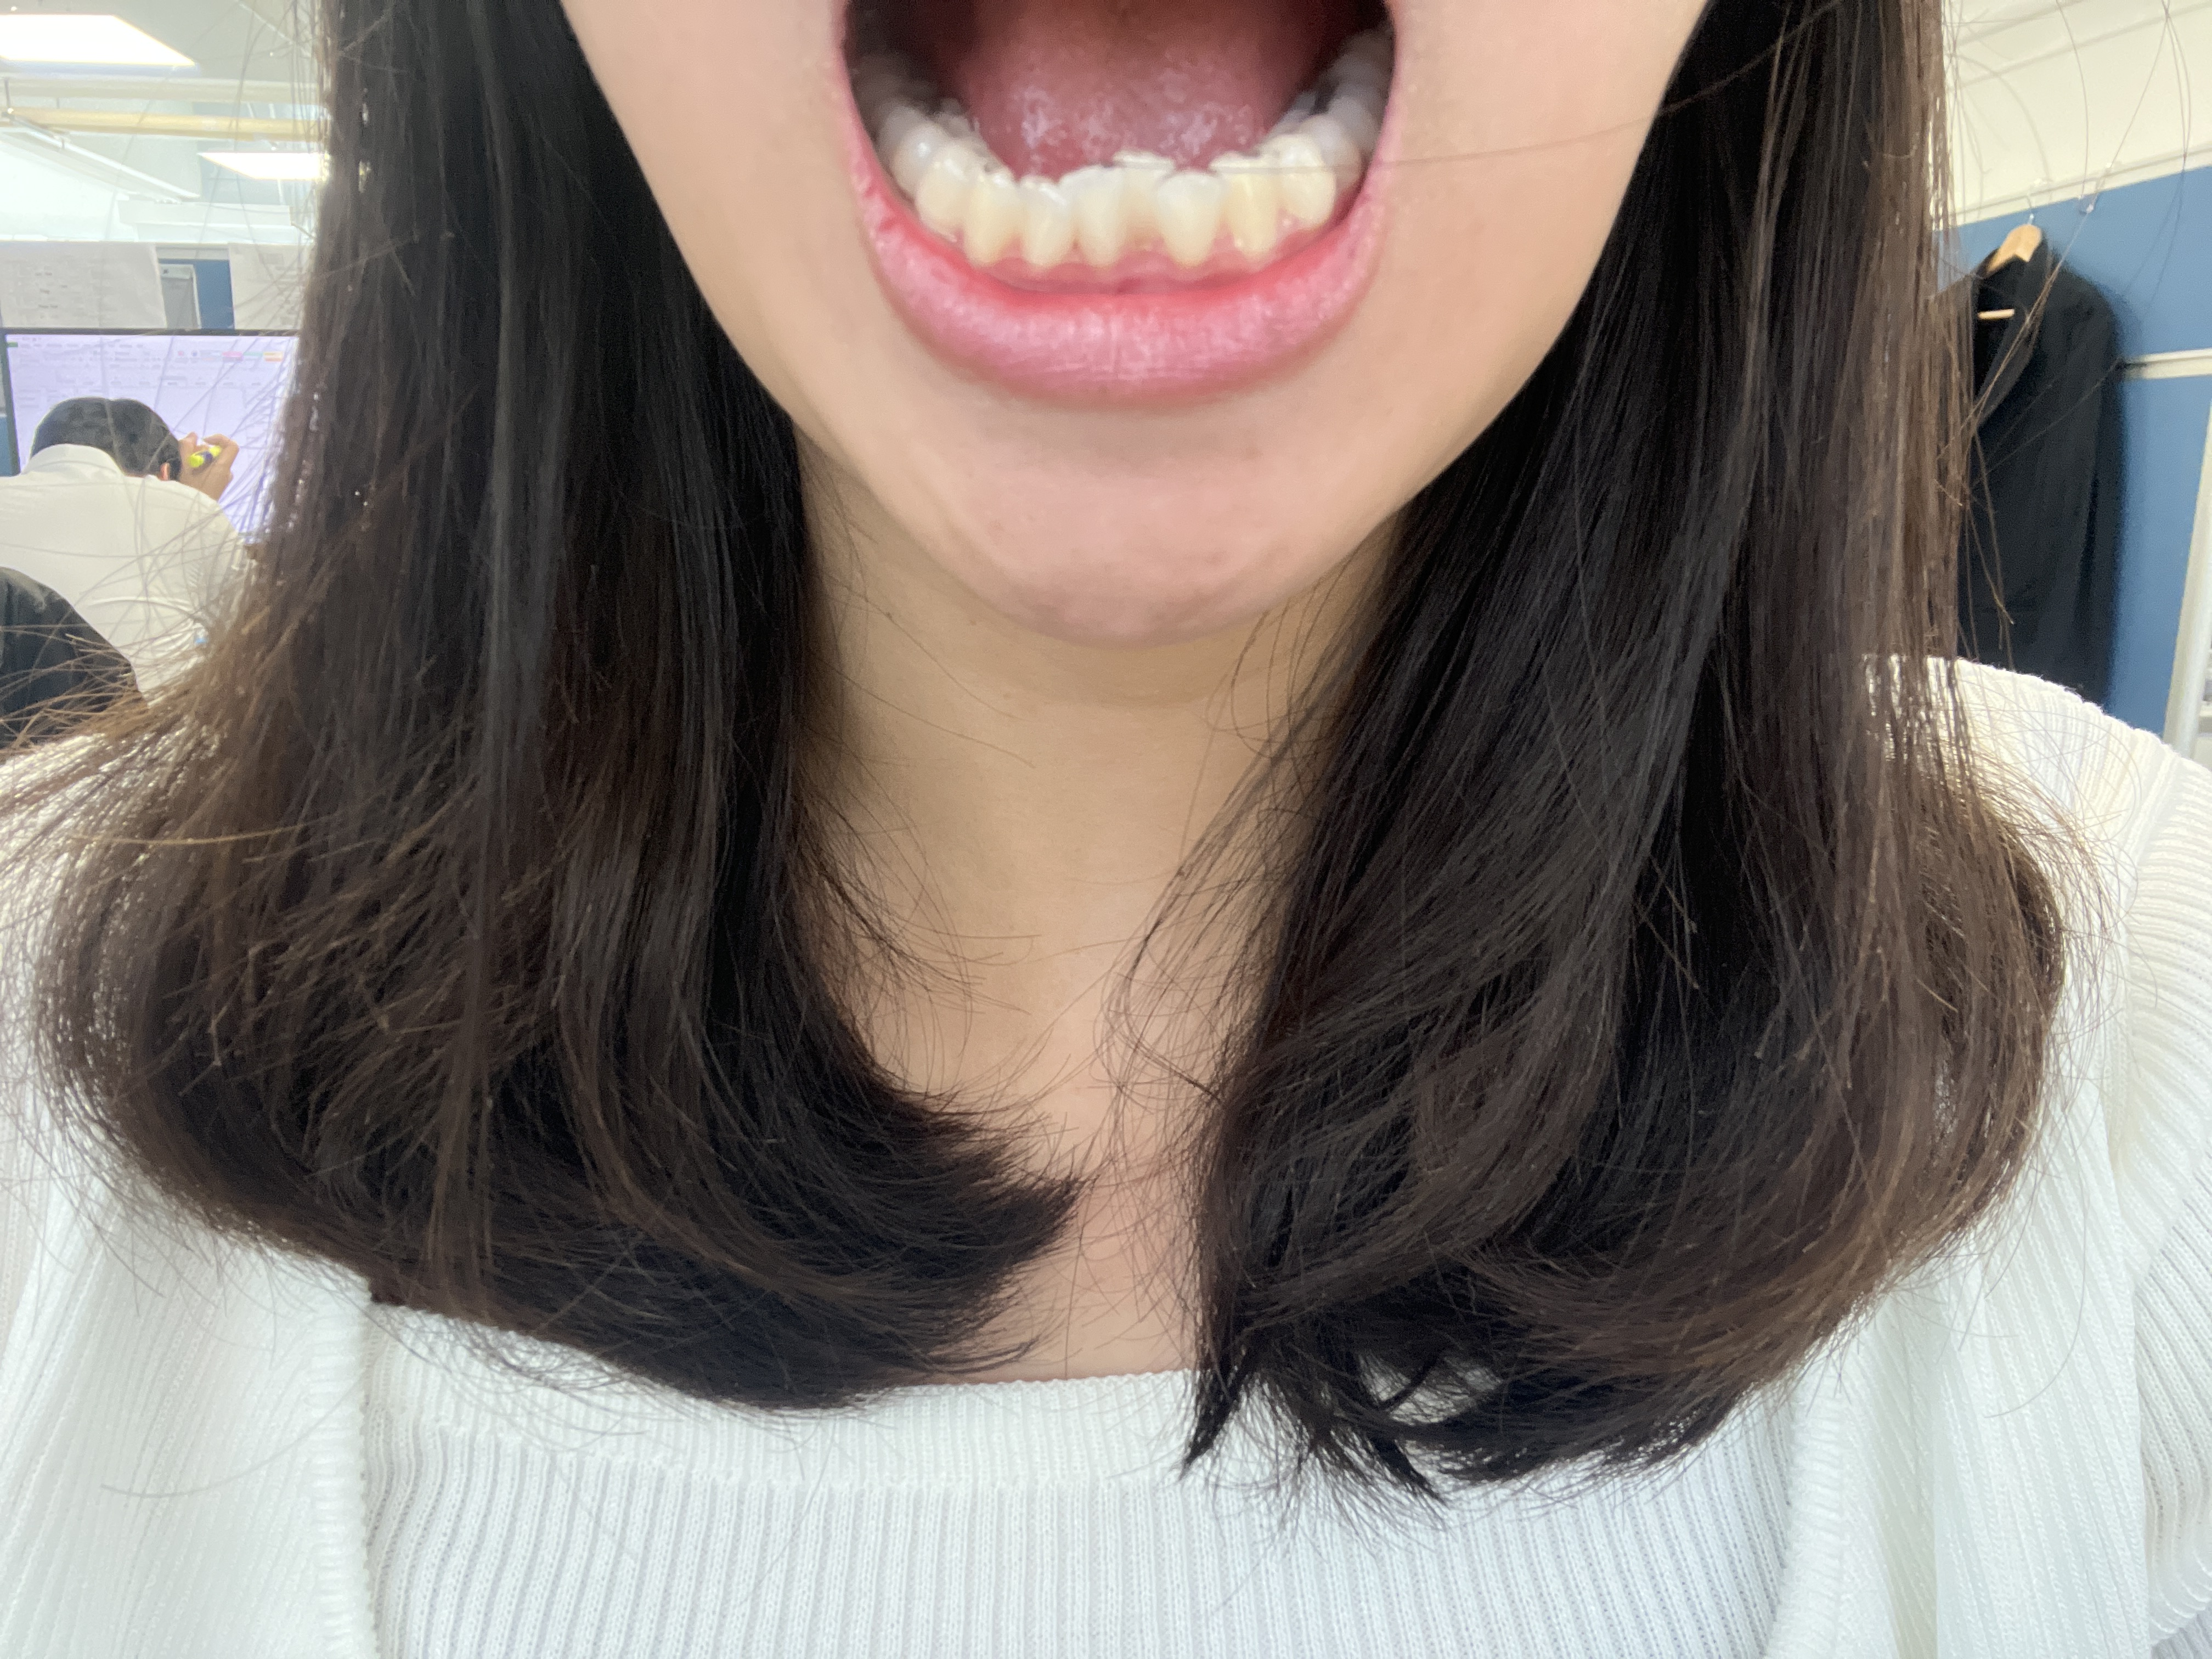teeth: (916, 143, 1010, 232), (883, 101, 975, 188), (1277, 110, 1364, 183), (1216, 152, 1275, 253), (857, 51, 944, 119), (1296, 84, 1379, 153), (1162, 171, 1219, 268), (1273, 131, 1334, 221), (1068, 167, 1123, 265), (961, 179, 1022, 267), (1122, 155, 1177, 240), (1022, 179, 1069, 274), (1320, 31, 1392, 91)
